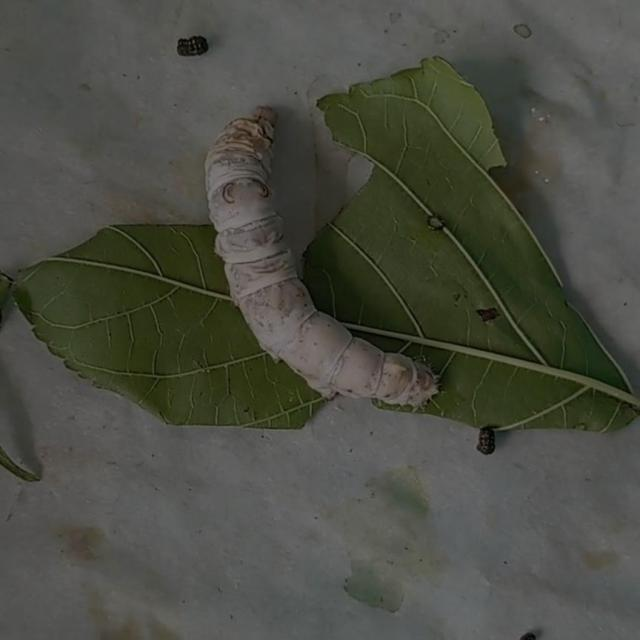Grasserie: (193, 95, 457, 419)
